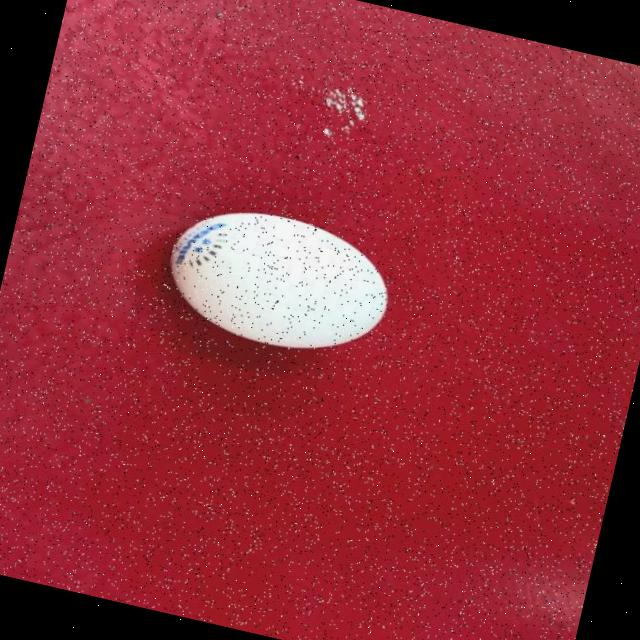ping-pong-ball: (150, 192, 404, 374)
